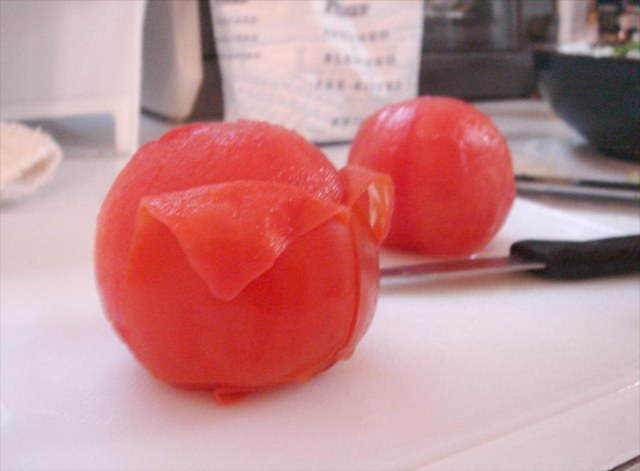tomato: (93, 118, 395, 407), (347, 95, 516, 256)
